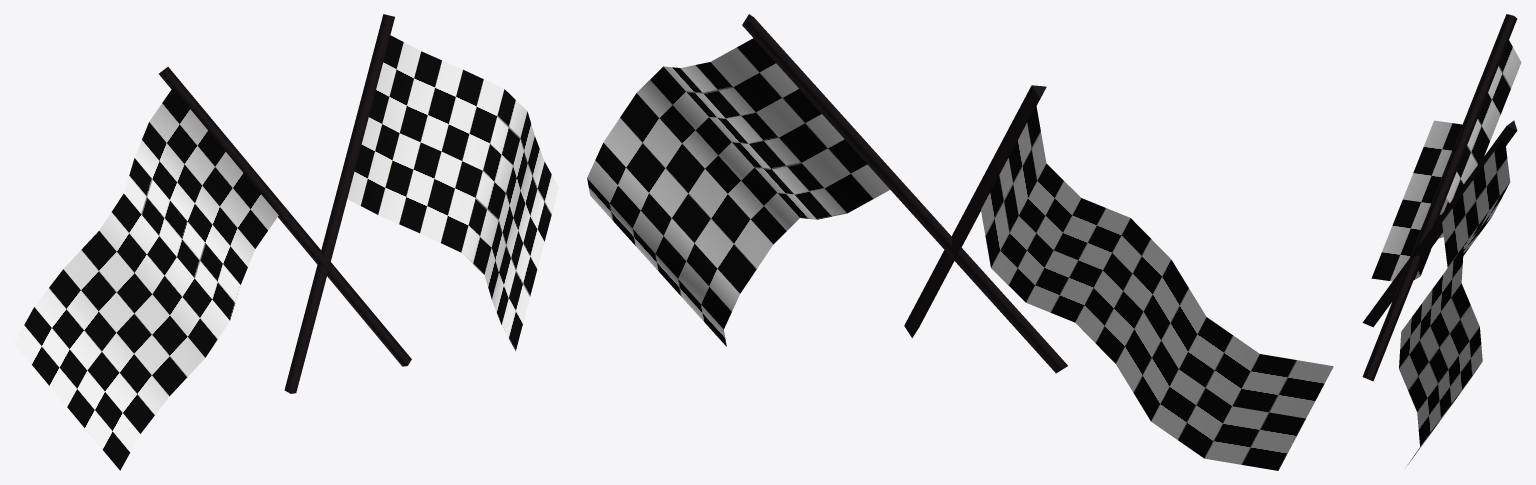
Rendered from M_qizhi01.FBX.
3 renders of one model, left to right at view 1: azimuth 30°, elevation 25°; view 2: azimuth 150°, elevation 25°; view 3: azimuth 270°, elevation 25°, orthographic. The views are drawn at different scales.
Visible parts, largest first — view 1: M_qizhi01_02, M_qizhi01_01; view 2: M_qizhi01_02, M_qizhi01_01; view 3: M_qizhi01_02, M_qizhi01_01.
Boxes of the visible parts, box(x1,y1,x2,y2) form: M_qizhi01_02: box(14, 35, 558, 470); M_qizhi01_01: box(159, 14, 411, 393); M_qizhi01_02: box(587, 38, 1333, 470); M_qizhi01_01: box(742, 14, 1067, 373); M_qizhi01_02: box(1371, 40, 1521, 465); M_qizhi01_01: box(1362, 14, 1517, 381).
Size of the model in its own units: 5.14 by 2.82 by 1.27.
